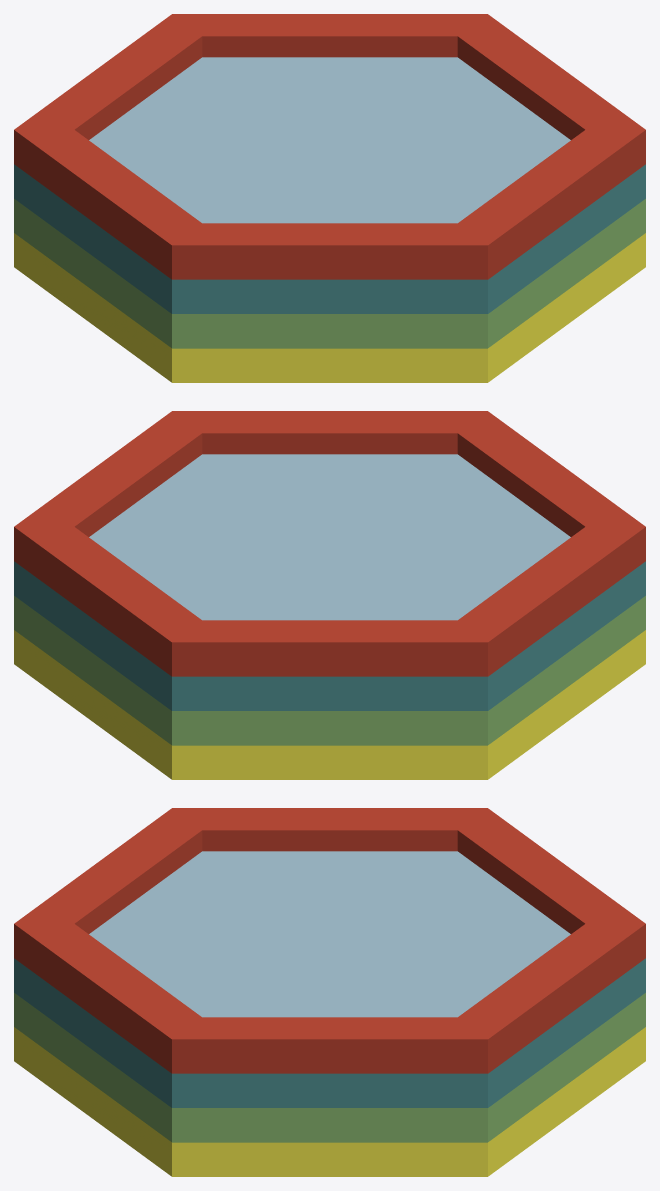
File: Building_Objects_Pool.fbx
3 views of the same model, one above another, from view 1: azimuth 30°, elevation 25°; view 2: azimuth 150°, elevation 25°; view 3: azimuth 270°, elevation 25° (orthographic).
Parts seen in each view (by area): view 1: Building_Objects_Pool; view 2: Building_Objects_Pool; view 3: Building_Objects_Pool.
Part boxes in pixels (x1=…): Building_Objects_Pool: x1=14, y1=14, x2=645, y2=382; Building_Objects_Pool: x1=14, y1=411, x2=645, y2=779; Building_Objects_Pool: x1=14, y1=808, x2=645, y2=1176.
Size of the model in its own units: 255 by 70.56 by 294.
